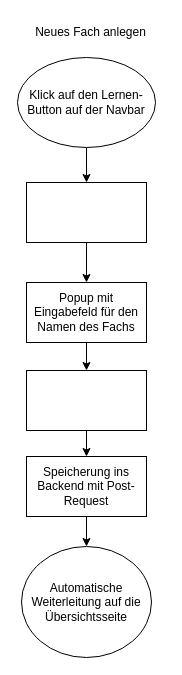
The diagram is 182 pixels wide and 675 high, and some of its shapes have lost their labels. Each missing label, with the box of its shape:
Klick auf den Hinzufügen (+) Button: (26, 182, 146, 242)
Klick auf den Speichern Button: (26, 370, 146, 430)
